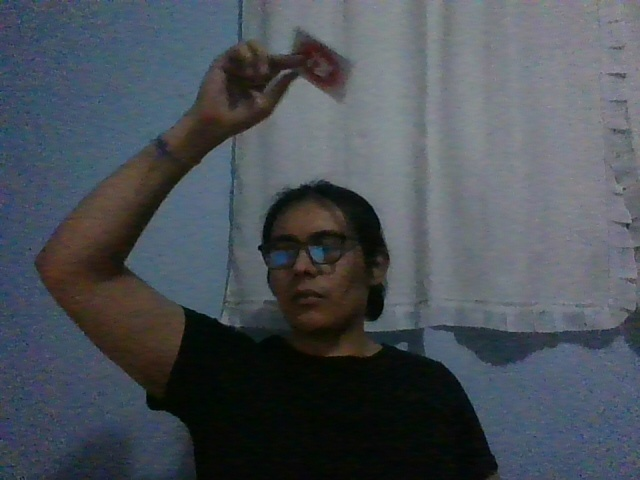tarjeta: (291, 26, 354, 104)
